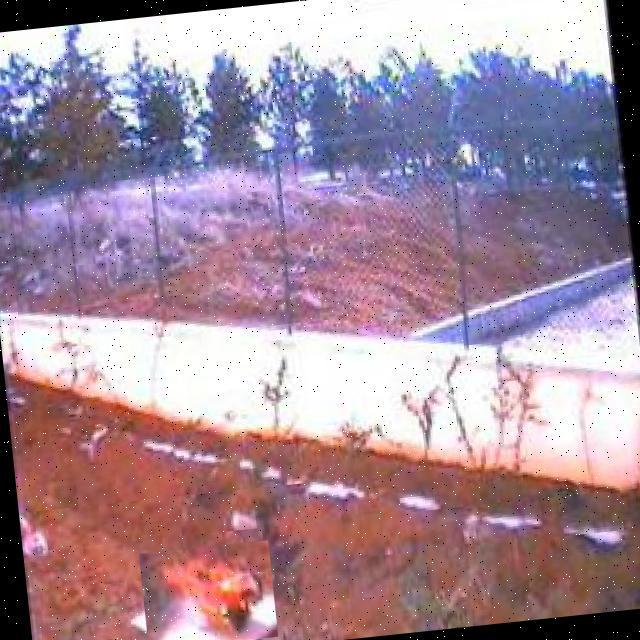fire: (138, 539, 277, 640)
